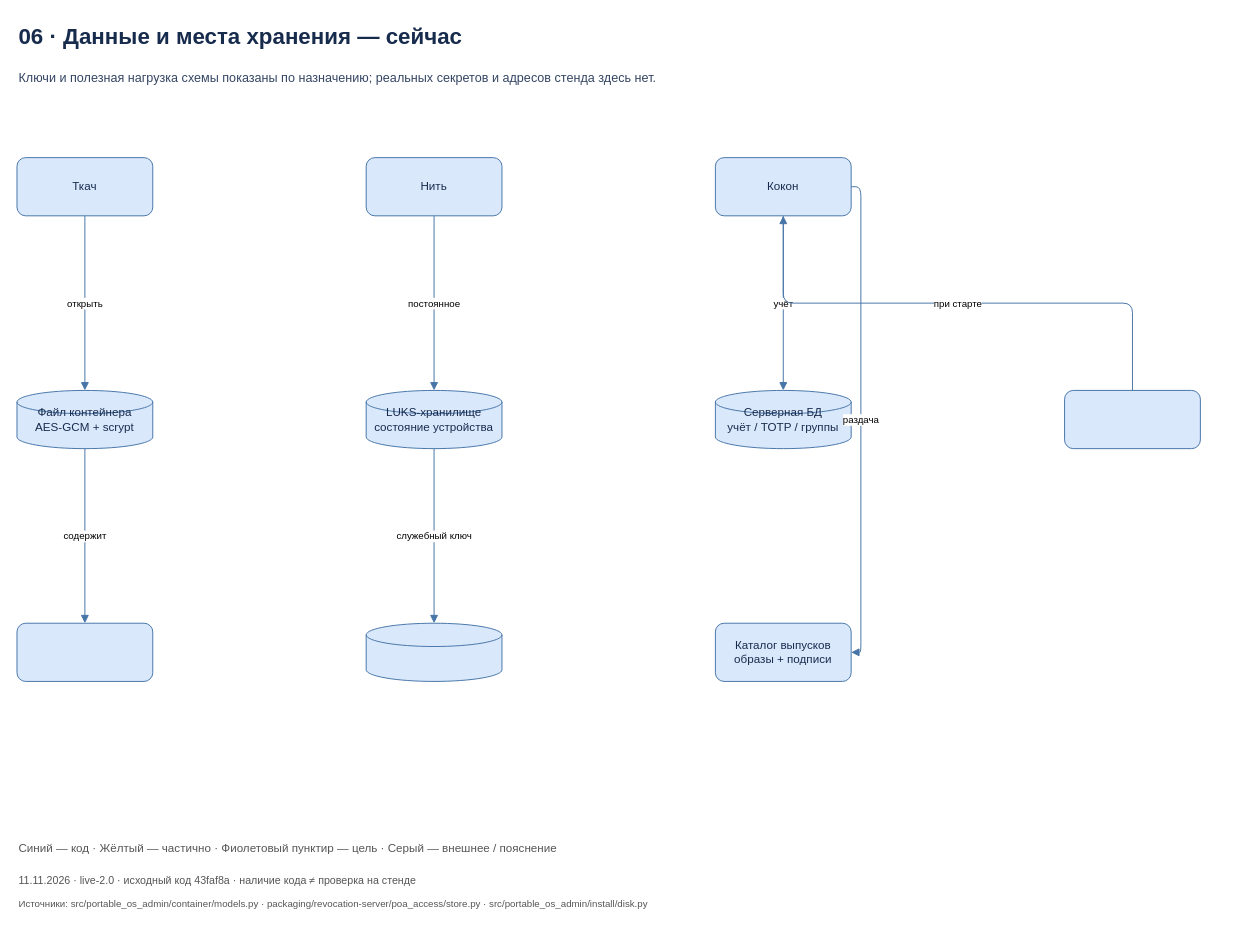
This 1237x945 diagram has some shape labels left out. Each missing label, with the box of its shape:
LUKS-журналы локальные события: (365, 622, 502, 681)
Конфигурации, записи, секрет админа: (16, 622, 153, 681)
Файлы ключей systemd credentials: (1064, 389, 1200, 449)
